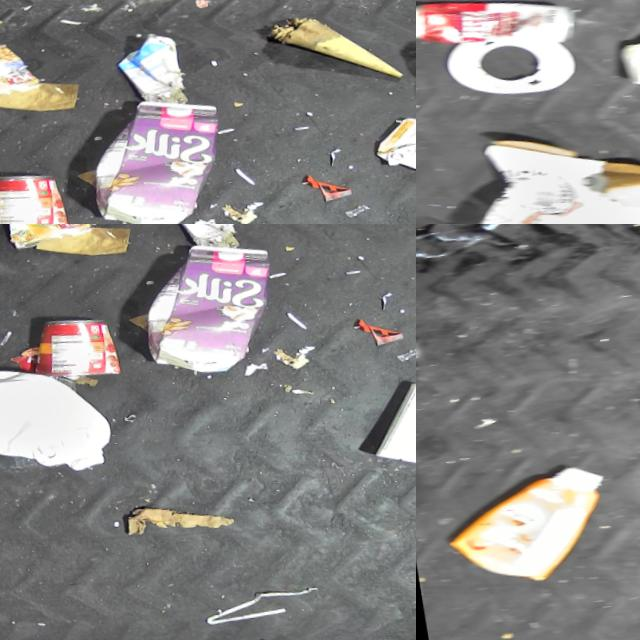can: (416, 0, 582, 60), (25, 307, 123, 383), (0, 162, 70, 224), (0, 32, 43, 109), (0, 224, 95, 253)
milk_jug: (0, 351, 116, 486)
non_white_jug: (433, 447, 621, 598), (128, 226, 286, 379), (75, 81, 234, 224), (366, 90, 416, 188)
